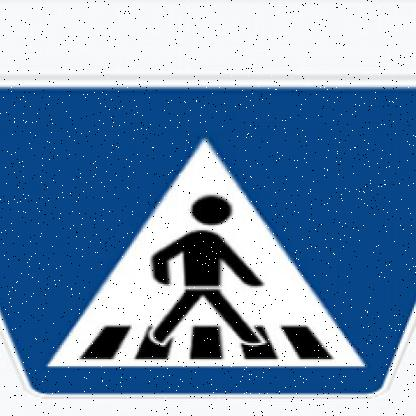Pedestrian Crossing: (1, 74, 416, 405)
